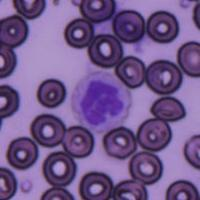N: (70, 70, 131, 132)
